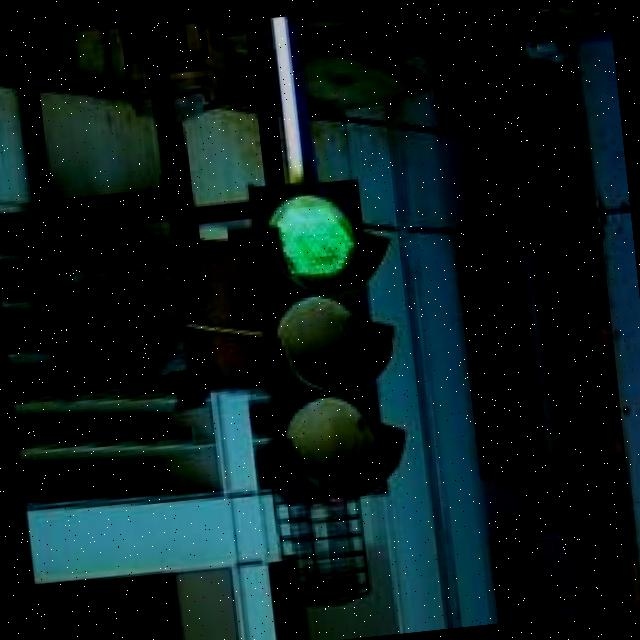green_light: (246, 170, 412, 504)
